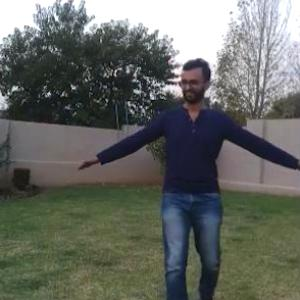land: (64, 40, 299, 299)
